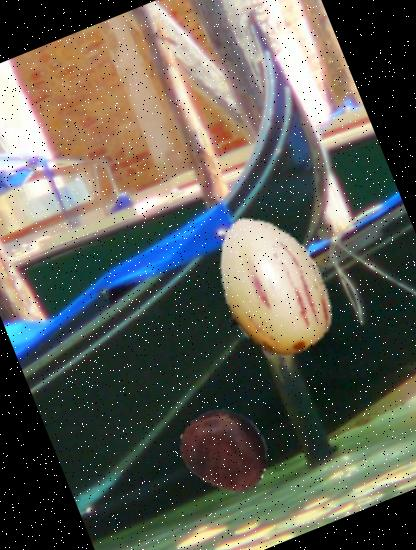Chestnut: (166, 389, 284, 507)
Pepino: (172, 190, 366, 384)
